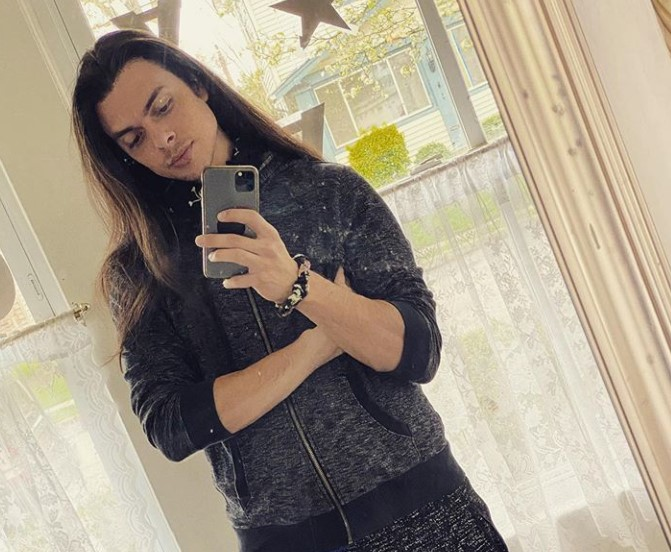face_no_mask: (70, 28, 224, 190)
